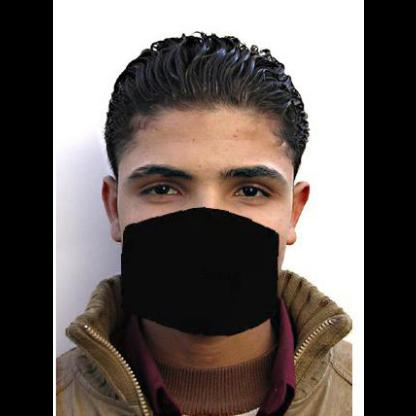Fabric/Cloth Mask: (92, 107, 326, 335)
